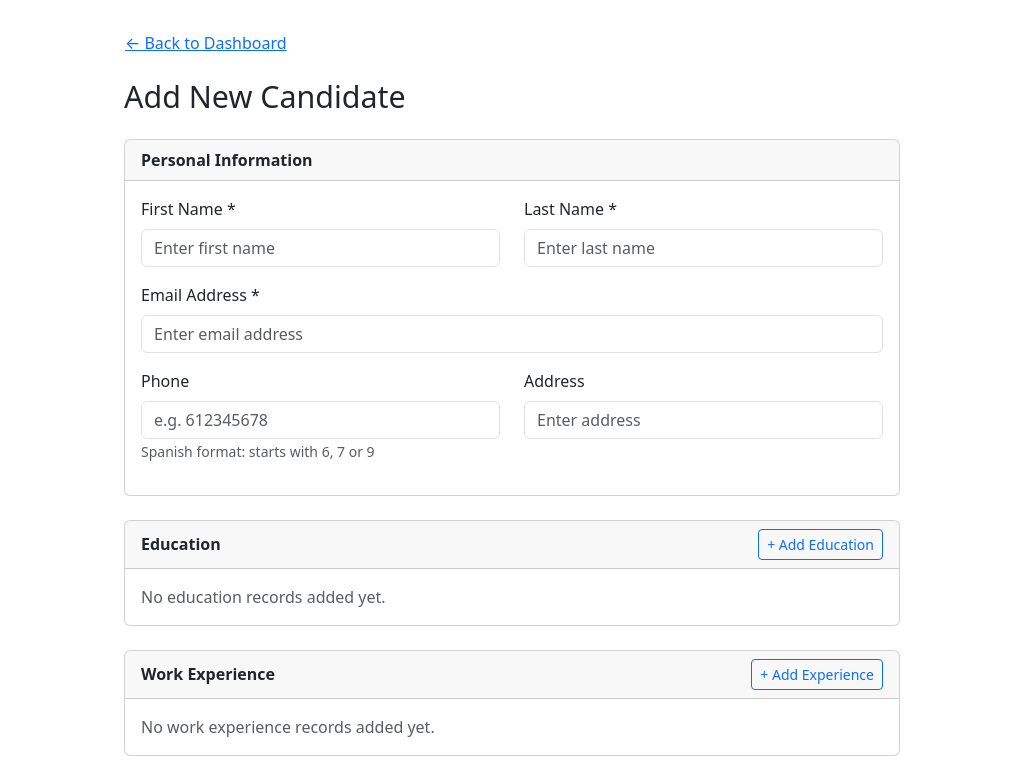
Add Candidate Form — UI Behaviours › Add Experience adds a row
Click the button with test id "btn-add-experience": (817, 675) left=751, top=659, right=883, bottom=690
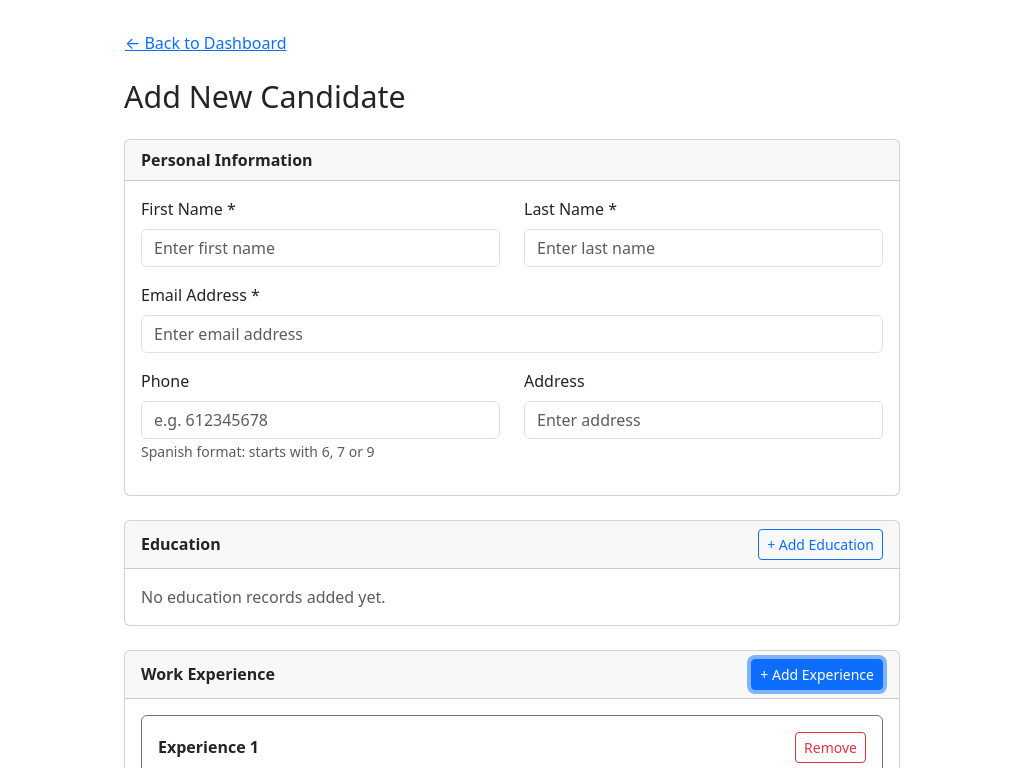
Result: the element with test id "experience-item-0" is shown at left=141, top=715, right=883, bottom=767
